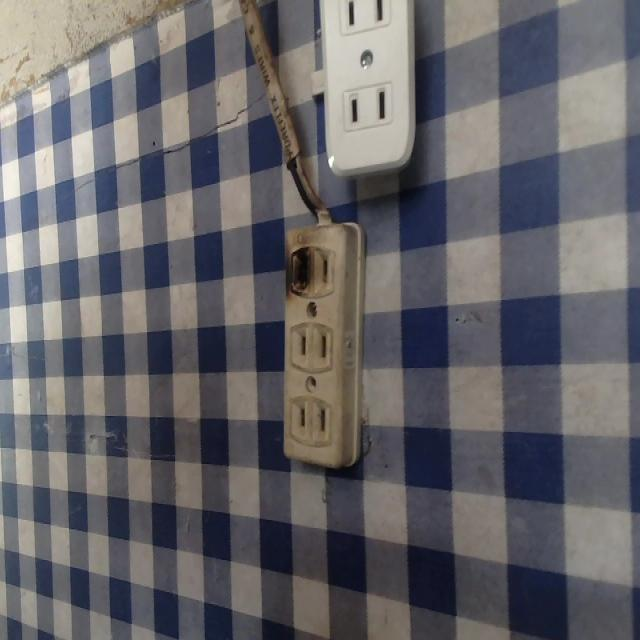-: (284, 240, 317, 303)
